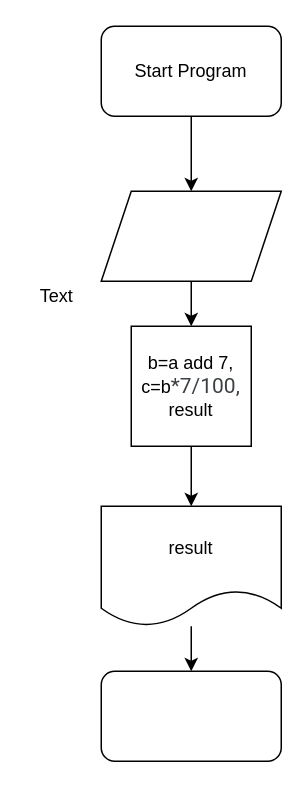
Some shapes in this 308 by 788 pixel diagram are drawn without their labels. The box of each missing label's shape, as (x1, y1, x2, y2) in pixels:
a=333, b, c, result: (100, 190, 281, 281)
End Program: (100, 670, 281, 761)
